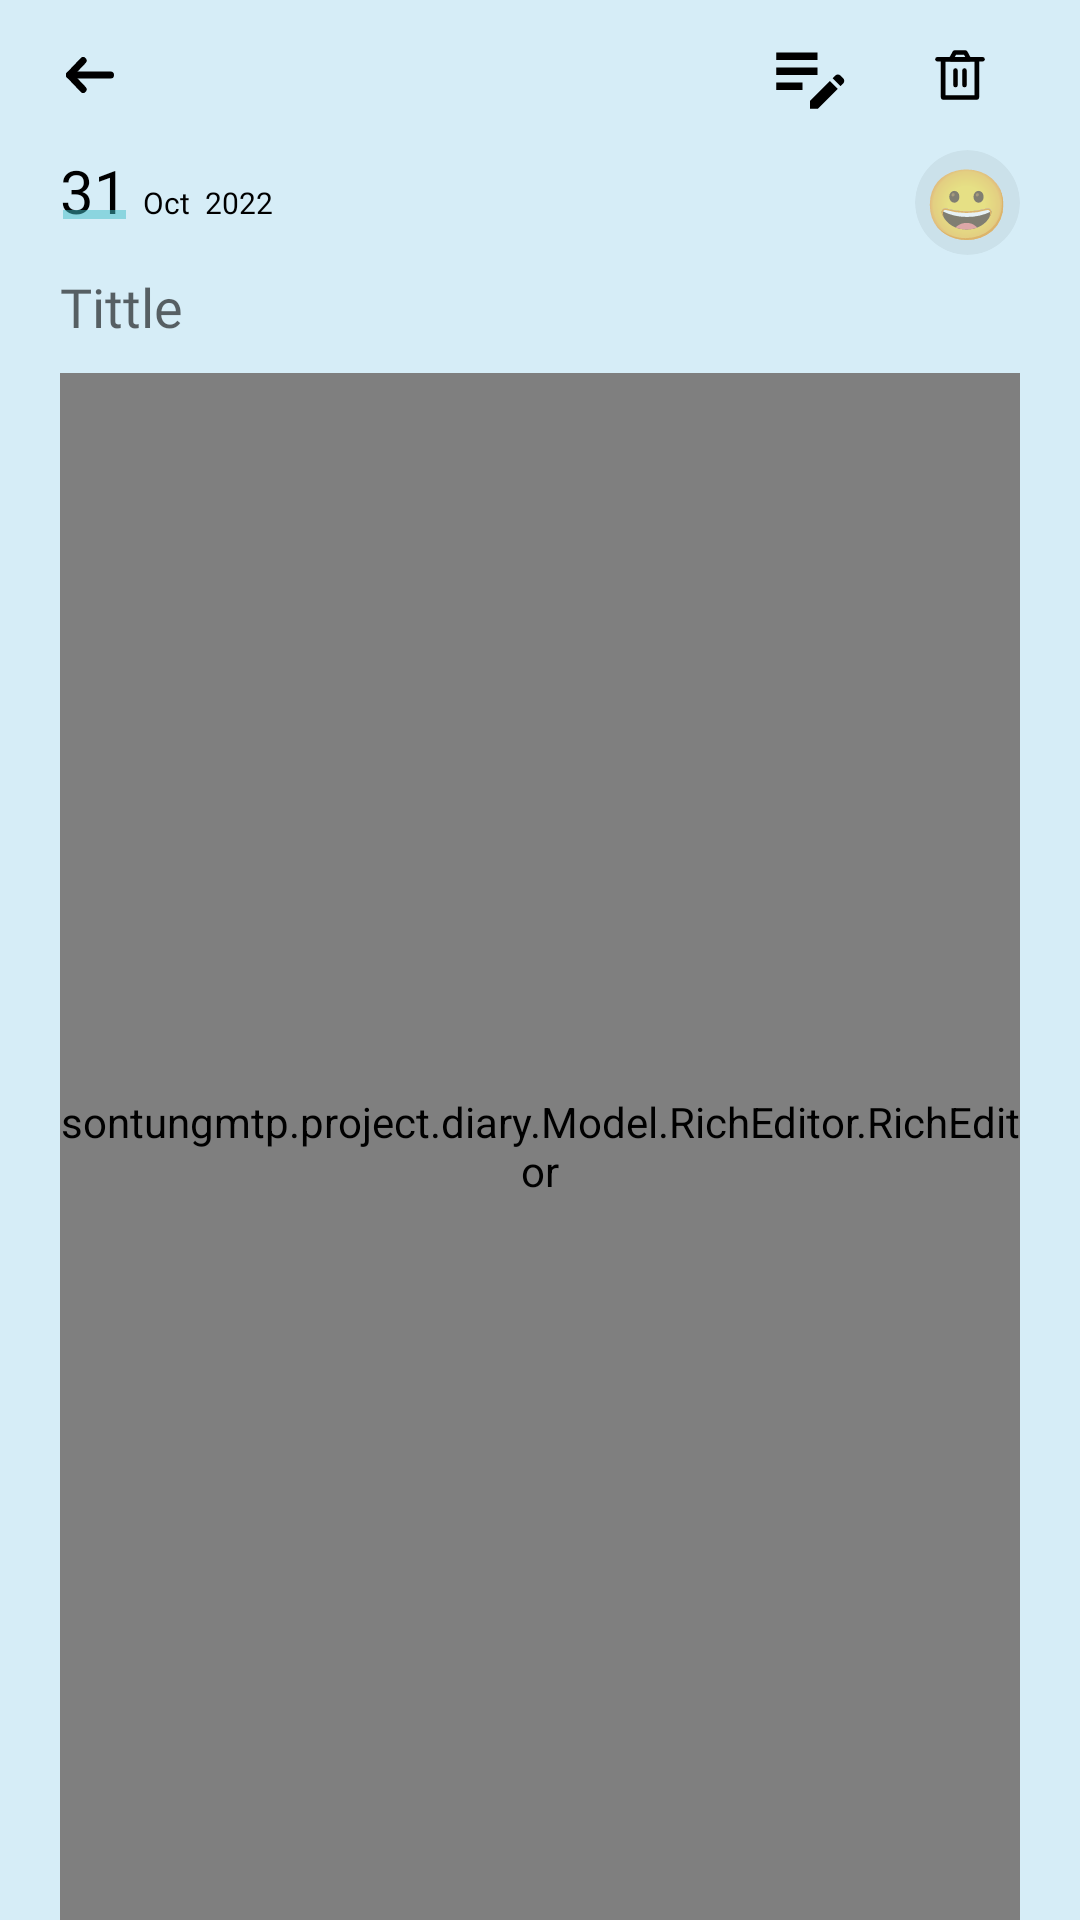

Icon click points for this 1080w x 1920h phone screenshot, format (x=x, y=y):
back: (x=90, y=75)
edit note: (x=810, y=80)
remove for diary: (x=960, y=75)
